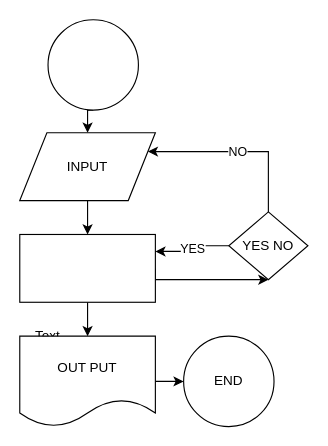
Some shapes in this 328 by 446 pixel diagram are drawn without their labels. Each missing label, with the centre of its shape:
"PROCESS" belongs at (87,267).
"START" belongs at (92,64).
